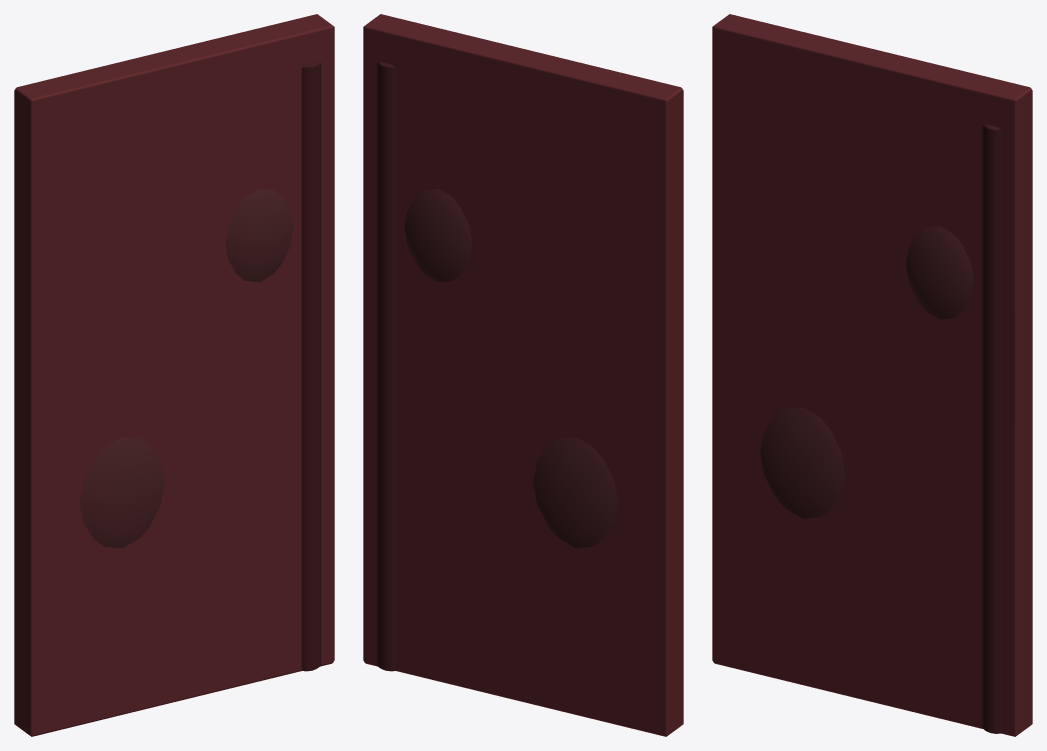
The model's file is living-cave-wall-swollen.76f822c9.glb.
3 renders of one model, left to right at view 1: azimuth 30°, elevation 25°; view 2: azimuth 150°, elevation 25°; view 3: azimuth 330°, elevation 25°, orthographic.
Visible parts, largest first — view 1: body; view 2: body; view 3: body.
Boxes of the visible parts, x1,y1,x2,y2 form: body: [14, 14, 334, 736]; body: [363, 14, 683, 736]; body: [712, 14, 1032, 736].
Bounding box in the file's own units: 1 × 2 × 0.14.
